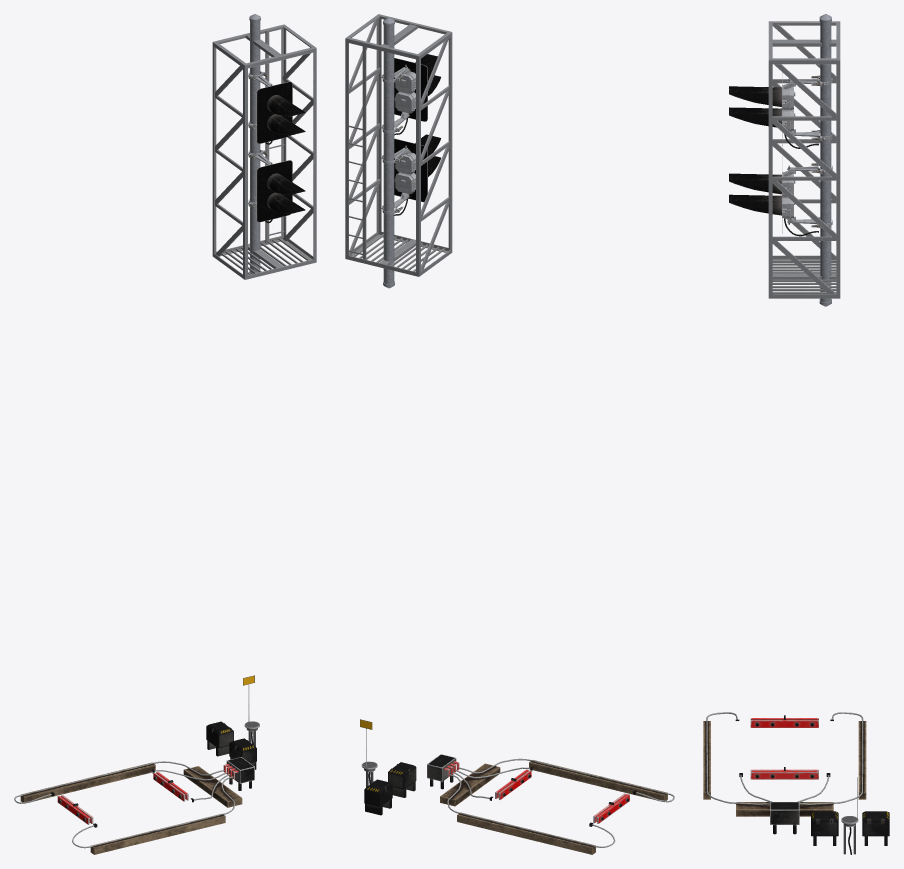
The model's file is RM_sig_P_RM1_YG+RY_2+2_exit.gltf.
3 renders of one model, left to right at view 1: azimuth 30°, elevation 25°; view 2: azimuth 150°, elevation 25°; view 3: azimuth 270°, elevation 25°, orthographic. The views are drawn at different scales.
Visible parts, largest first — view 1: Клетка, Изостык, Светофор; view 2: Клетка, Изостык, Светофор; view 3: Клетка, Изостык, Светофор.
Boxes of the visible parts, x1=… form: Клетка: x1=212, y1=14, x2=316, y2=279; Изостык: x1=14, y1=675, x2=259, y2=854; Светофор: x1=248, y1=71, x2=305, y2=223; Клетка: x1=345, y1=14, x2=452, y2=288; Изостык: x1=360, y1=719, x2=674, y2=854; Светофор: x1=381, y1=54, x2=441, y2=215; Клетка: x1=768, y1=14, x2=840, y2=306; Изостык: x1=703, y1=712, x2=889, y2=854; Светофор: x1=729, y1=72, x2=832, y2=236.
Bounding box in the file's own units: 4.42 × 12.01 × 2.43.
3 materials, 3 textured.
